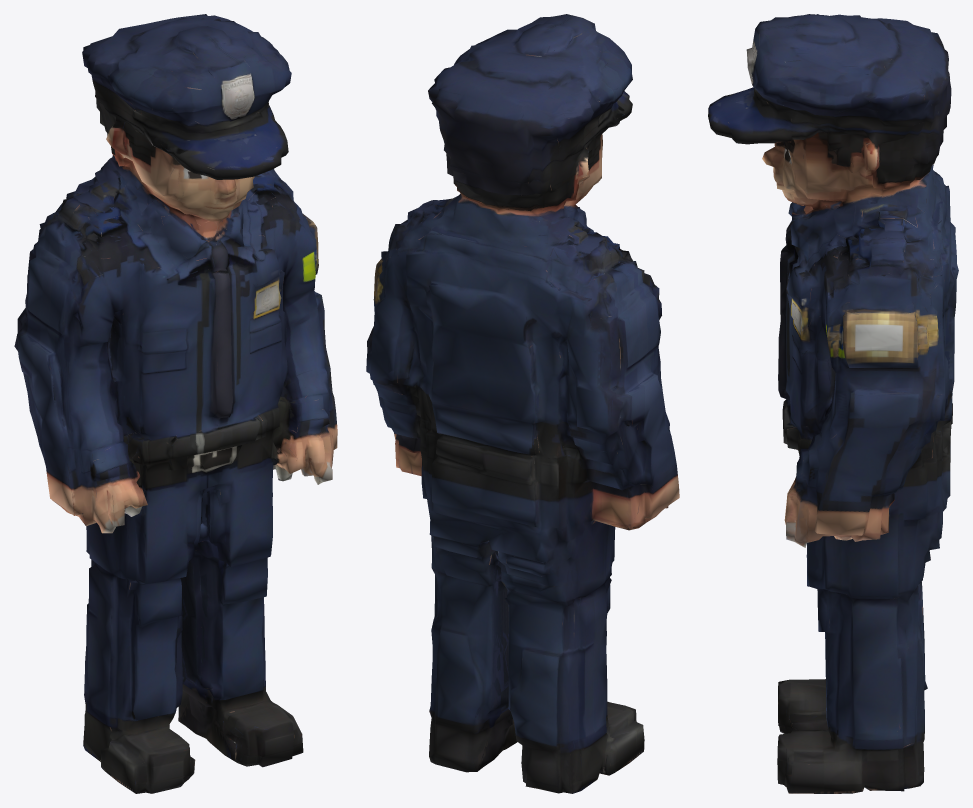
The model's file is guard.glb.
3 views of the same model, side by side, from view 1: azimuth 30°, elevation 25°; view 2: azimuth 150°, elevation 25°; view 3: azimuth 270°, elevation 25° (orthographic). The views are drawn at different scales.
Bounding box in the file's own units: 0.7902 × 2.01 × 0.6266.
Materials: 1 (1 with a texture image).
